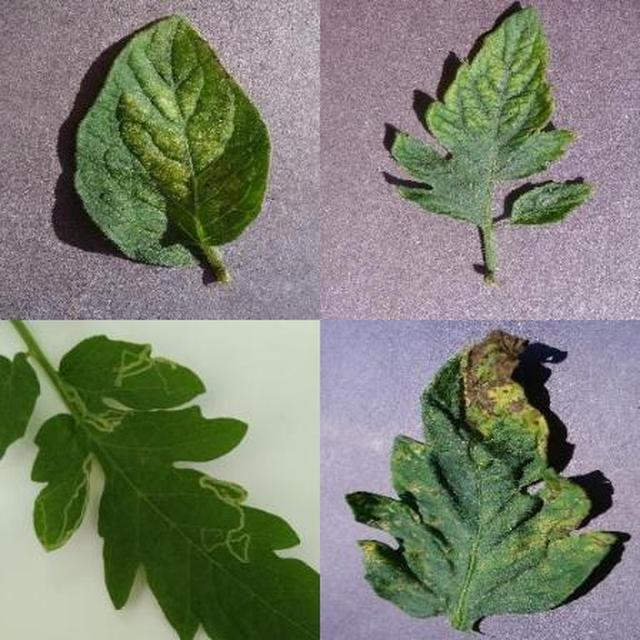Spider Mites Leaf: (245, 164, 640, 640)
